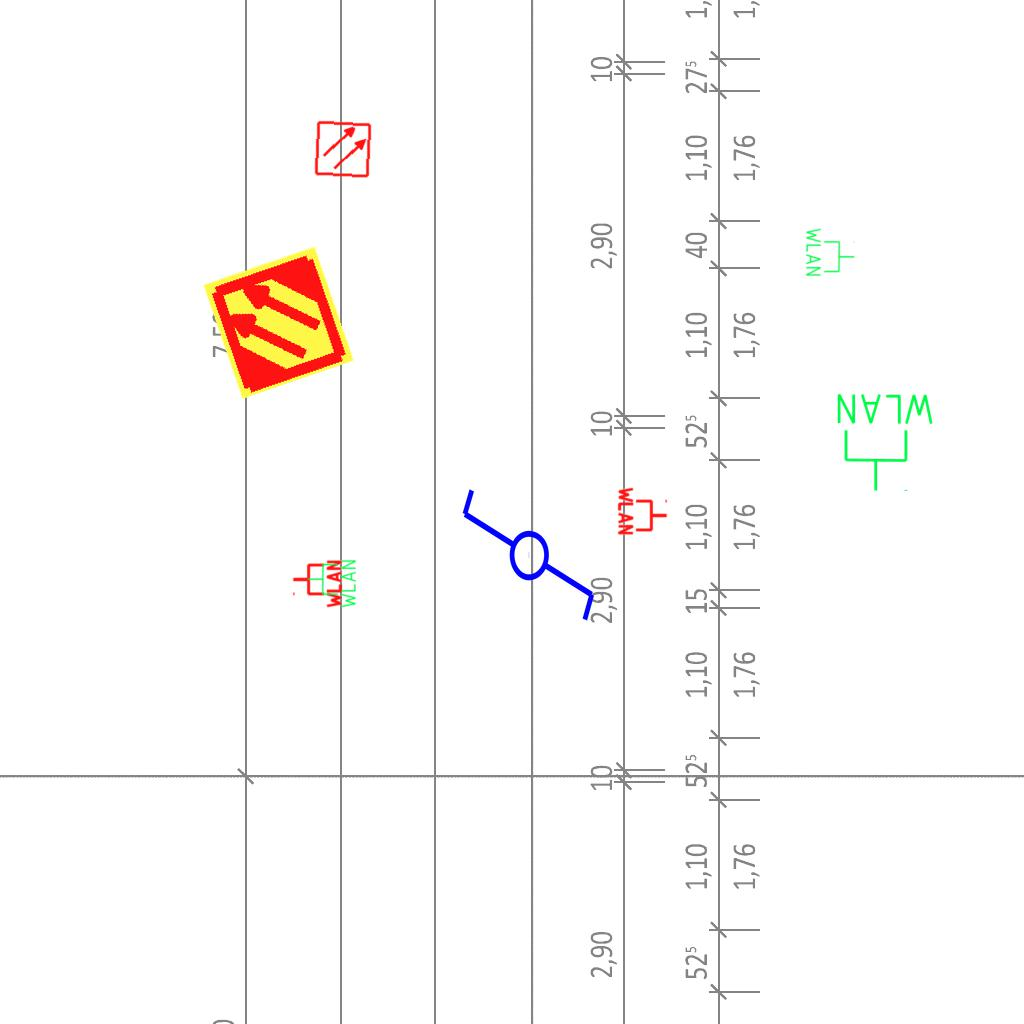ASR_Ansaugrauchmelder: (199, 243, 358, 402)
RMO_Rauchmelder_optischer: (313, 119, 373, 179)
WLAN: (833, 390, 938, 494), (617, 485, 669, 537), (804, 226, 856, 278), (291, 558, 343, 610), (306, 558, 358, 610)
Wechselschalter: (455, 485, 599, 642)
